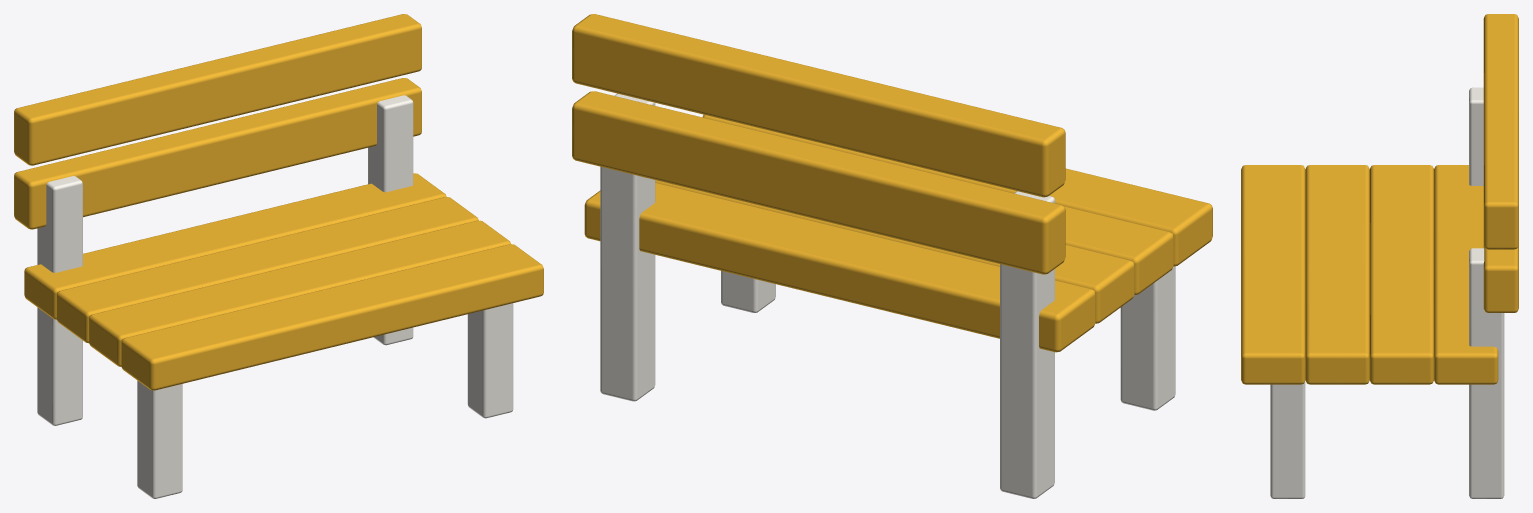
File: mall-bench.glb
3 views of the same model, side by side, from view 1: azimuth 30°, elevation 25°; view 2: azimuth 150°, elevation 25°; view 3: azimuth 270°, elevation 25° (orthographic). The views are drawn at different scales.
Visible parts, largest first — view 1: back-slat-1, seat-slat-3, back-slat-0, seat-slat-2, seat-slat-1, seat-slat-0, back-leg--0.65, front-leg--0.65, front-leg-0.65, back-leg-0.65; view 2: back-slat-0, back-slat-1, seat-slat-0, back-leg-0.65, back-leg--0.65, seat-slat-3, front-leg--0.65, seat-slat-2, seat-slat-1, front-leg-0.65; view 3: seat-slat-2, seat-slat-3, seat-slat-1, seat-slat-0, back-slat-1, back-leg-0.65, front-leg-0.65, back-slat-0, back-leg--0.65.
Boxes of the visible parts, x1,y1,x2,y2 form: back-slat-1: [14, 14, 421, 165]; seat-slat-3: [121, 244, 543, 390]; back-slat-0: [14, 78, 421, 229]; seat-slat-2: [89, 220, 510, 366]; seat-slat-1: [56, 197, 478, 343]; seat-slat-0: [24, 173, 446, 319]; back-leg--0.65: [37, 176, 82, 425]; front-leg--0.65: [137, 380, 182, 498]; front-leg-0.65: [467, 303, 513, 418]; back-leg-0.65: [368, 95, 413, 345]; back-slat-0: [572, 91, 1065, 274]; back-slat-1: [572, 14, 1065, 197]; seat-slat-0: [584, 182, 1095, 352]; back-leg-0.65: [600, 93, 655, 401]; back-leg--0.65: [1000, 191, 1054, 498]; seat-slat-3: [702, 115, 1212, 266]; front-leg--0.65: [1120, 266, 1175, 410]; seat-slat-2: [1064, 206, 1173, 294]; seat-slat-1: [655, 180, 1134, 323]; front-leg-0.65: [721, 271, 775, 312]; seat-slat-2: [1305, 165, 1369, 384]; seat-slat-3: [1241, 165, 1305, 384]; seat-slat-1: [1369, 165, 1433, 384]; seat-slat-0: [1434, 165, 1498, 384]; back-slat-1: [1483, 14, 1518, 249]; back-leg-0.65: [1469, 248, 1504, 498]; front-leg-0.65: [1270, 381, 1305, 498]; back-slat-0: [1483, 245, 1518, 312]; back-leg--0.65: [1469, 87, 1483, 185].
Bounding box in the file's own units: 1.55 × 1.15 × 0.95.
